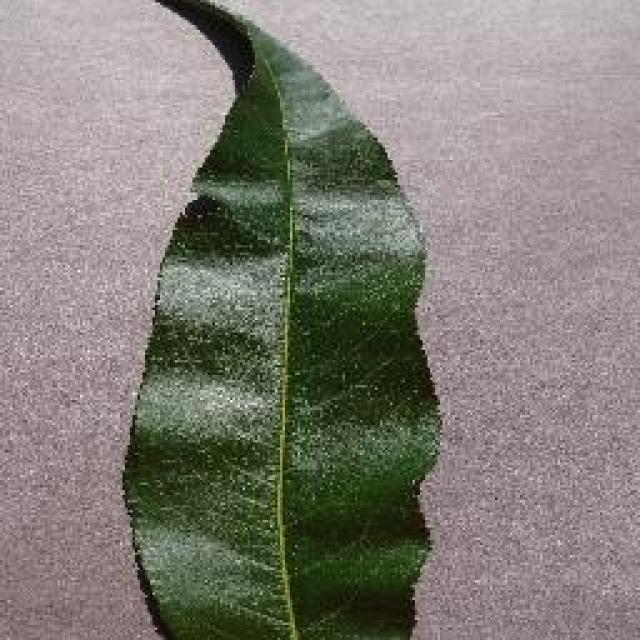Pea_healthy: (151, 40, 440, 600)
